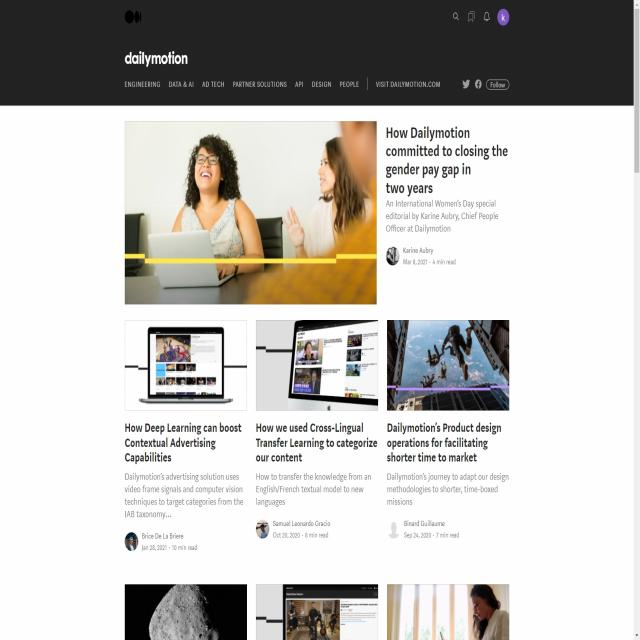menu-bar: (445, 1, 517, 32)
menu-panel: (118, 70, 519, 98)
